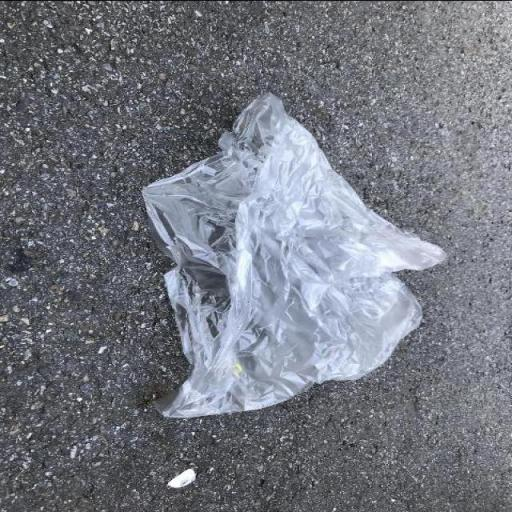plastic-bag: (146, 88, 452, 419)
